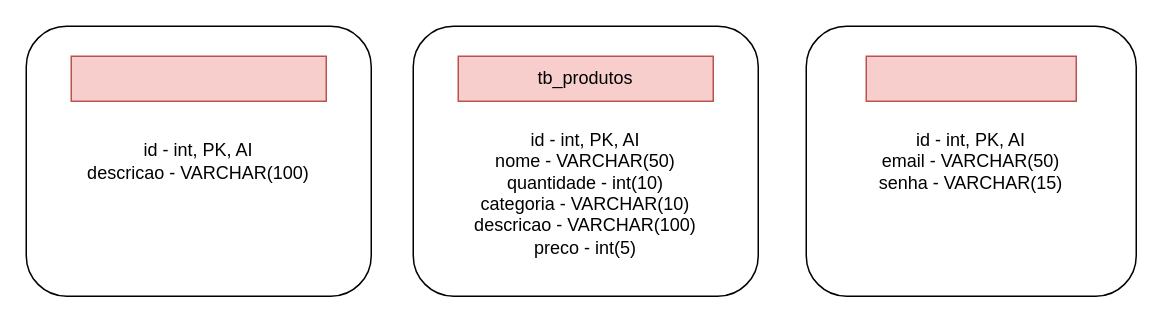
This 1163x323 diagram has some shape labels left out. Here are the shapes that lost their labels. From the top down, the centre of each, then its label:
At (198,78): "tb_categorias".
At (970,78): "tb_usuarios".
